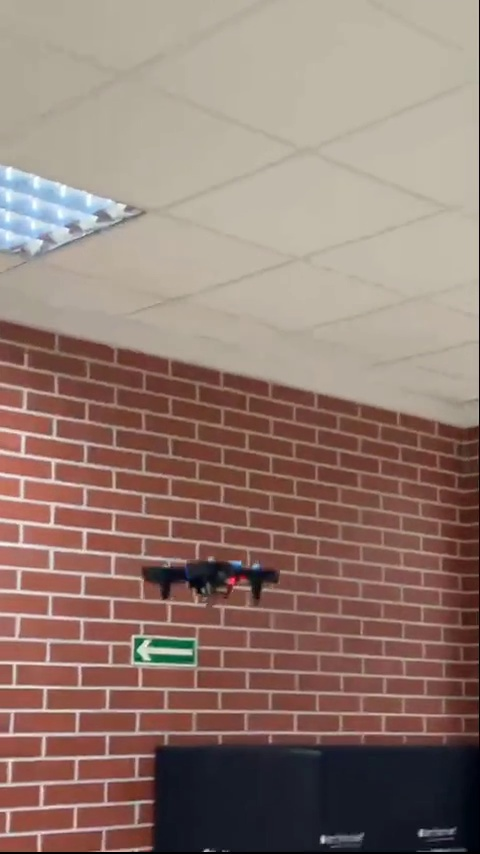drone: (140, 558, 282, 605)
